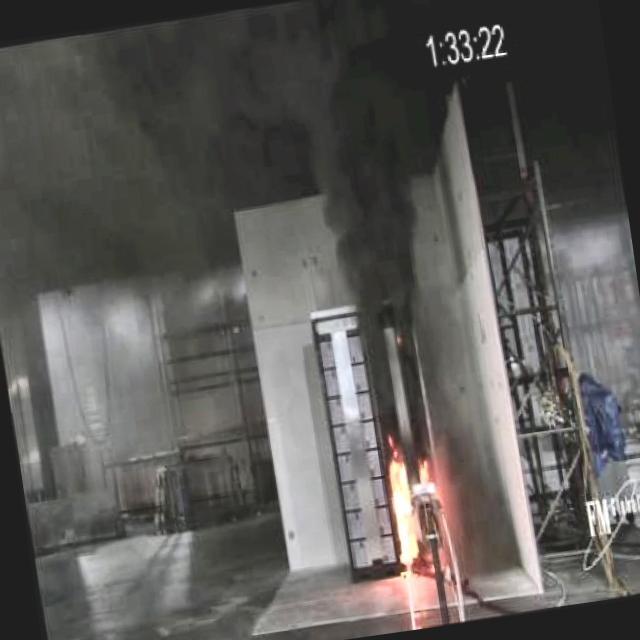fire: (363, 418, 448, 580)
